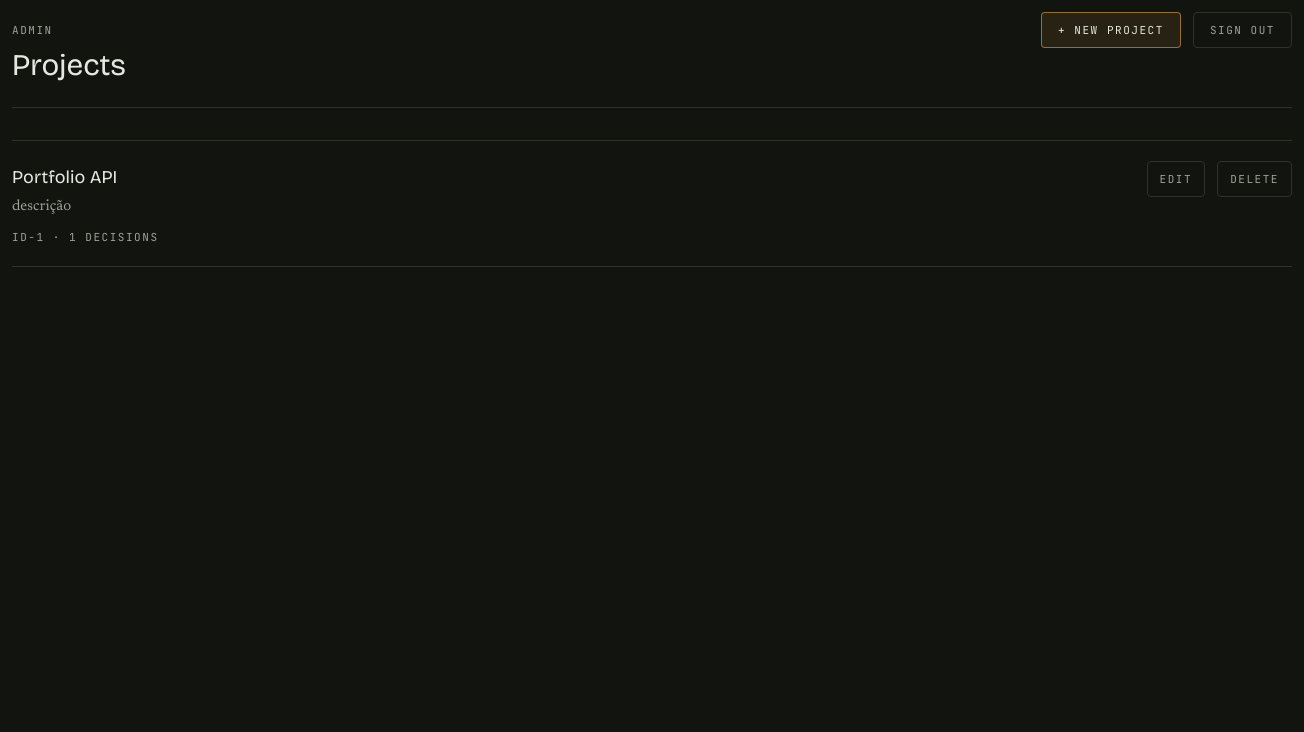
Test: edit abre o formulário com os valores do projeto
Expected: the heading "Portfolio API" is shown, [12,166,117,188]
Click the button "Edit": click(1176, 179) [1147,161,1205,197]
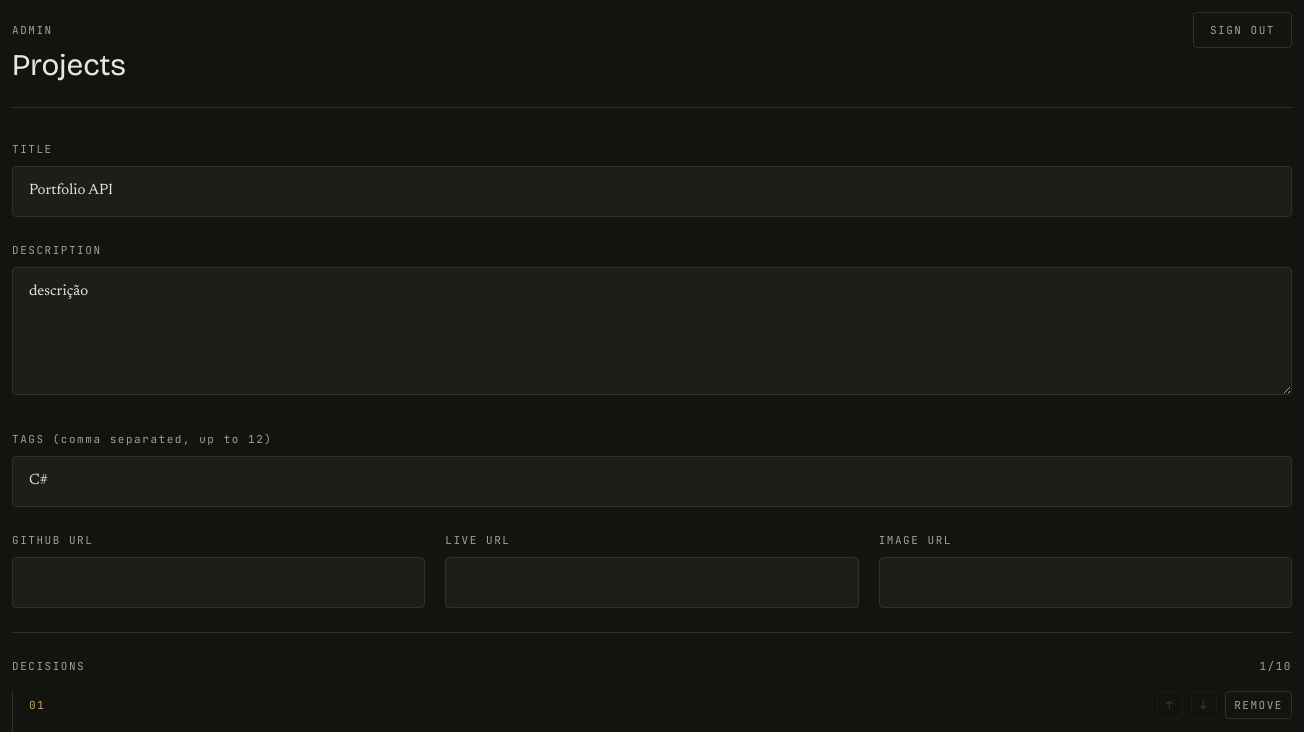
Expected: the field labelled "Title" holds "Portfolio API", [12,166,1292,217]
